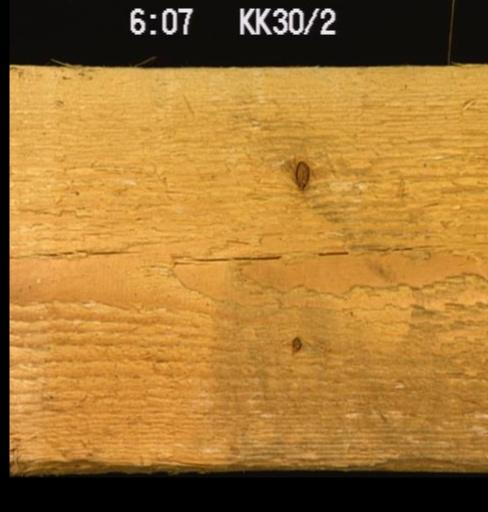dry_knot: (292, 159, 310, 193)
split: (178, 251, 279, 261), (73, 244, 139, 256), (315, 247, 346, 256)
wave: (9, 456, 147, 476)
